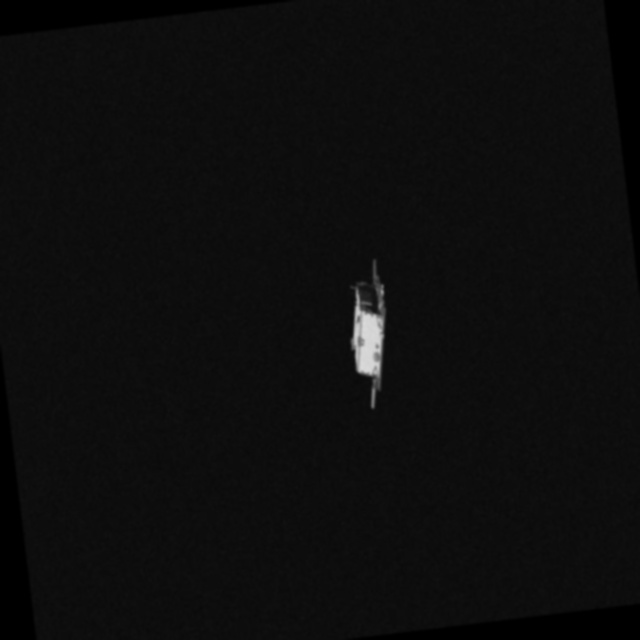medium_debris: (322, 250, 403, 414)
